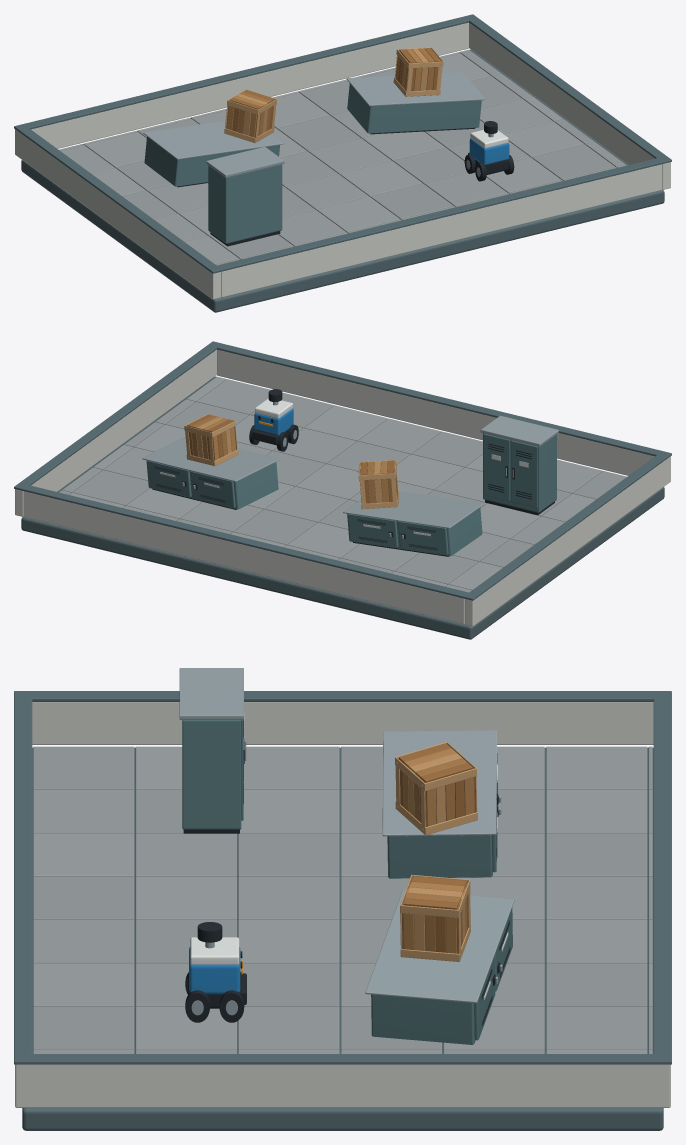
3 renders of one model, top to bottom at view 1: azimuth 30°, elevation 25°; view 2: azimuth 150°, elevation 25°; view 3: azimuth 270°, elevation 25°, orthographic. The views are drawn at different scales.
Parts seen in each view (by area): view 1: Cutaway wall.002, Cutaway wall.003, Floor foundation, storage, mount_1, Cutaway wall, Cutaway wall.001, mount_0, Wall coping.002, Wall coping.003, Wall coping, Wall coping.001 (+36 smaller); view 2: Cutaway wall.003, Cutaway wall.002, Floor foundation, mount_0, storage, mount_1, Cutaway wall, Cutaway wall.001, Wall coping.003, Wall coping.002, Wall coping, Wall coping.001 (+35 smaller); view 3: Cutaway wall.001, Cutaway wall, Floor foundation, mount_1, mount_0, storage, Wall coping.001, Wall coping.002, Wall coping.003, Wall coping, box_0, box_1 (+43 smaller).
Part boxes in pixels (x1=…): Cutaway wall.002: x1=221, y1=164, x2=662, y2=297; Cutaway wall.003: x1=31, y1=22, x2=468, y2=148; Floor foundation: x1=21, y1=49, x2=664, y2=312; storage: x1=206, y1=147, x2=284, y2=246; mount_1: x1=346, y1=72, x2=485, y2=134; Cutaway wall: x1=15, y1=129, x2=221, y2=299; Cutaway wall.001: x1=469, y1=22, x2=670, y2=189; mount_0: x1=143, y1=120, x2=284, y2=187; Wall coping.002: x1=217, y1=158, x2=662, y2=271; Wall coping.003: x1=23, y1=16, x2=469, y2=129; Wall coping: x1=14, y1=124, x2=221, y2=273; Wall coping.001: x1=464, y1=14, x2=671, y2=163; Cutaway wall.003: x1=23, y1=491, x2=464, y2=624; Cutaway wall.002: x1=217, y1=349, x2=654, y2=475; Floor foundation: x1=21, y1=376, x2=664, y2=639; mount_0: x1=343, y1=491, x2=483, y2=556; storage: x1=480, y1=415, x2=558, y2=515; mount_1: x1=142, y1=436, x2=280, y2=509; Cutaway wall: x1=464, y1=456, x2=670, y2=626; Cutaway wall.001: x1=15, y1=349, x2=216, y2=516; Wall coping.003: x1=23, y1=485, x2=468, y2=598; Wall coping.002: x1=216, y1=343, x2=662, y2=456; Wall coping: x1=464, y1=451, x2=671, y2=600; Wall coping.001: x1=14, y1=341, x2=221, y2=490; Cutaway wall.001: x1=15, y1=1064, x2=670, y2=1107; Cutaway wall: x1=32, y1=702, x2=653, y2=744; Floor foundation: x1=22, y1=747, x2=663, y2=1130; mount_1: x1=365, y1=889, x2=514, y2=1044; mount_0: x1=382, y1=730, x2=501, y2=878; storage: x1=179, y1=668, x2=246, y2=833; Wall coping.001: x1=14, y1=1054, x2=671, y2=1064; Wall coping.002: x1=14, y1=698, x2=32, y2=1053; Wall coping.003: x1=653, y1=698, x2=671, y2=1053; Wall coping: x1=14, y1=691, x2=671, y2=701; box_0: x1=395, y1=742, x2=477, y2=835; box_1: x1=400, y1=874, x2=470, y2=961.
Bounding box in the file's own units: 8.55 × 1.59 × 6.41.
